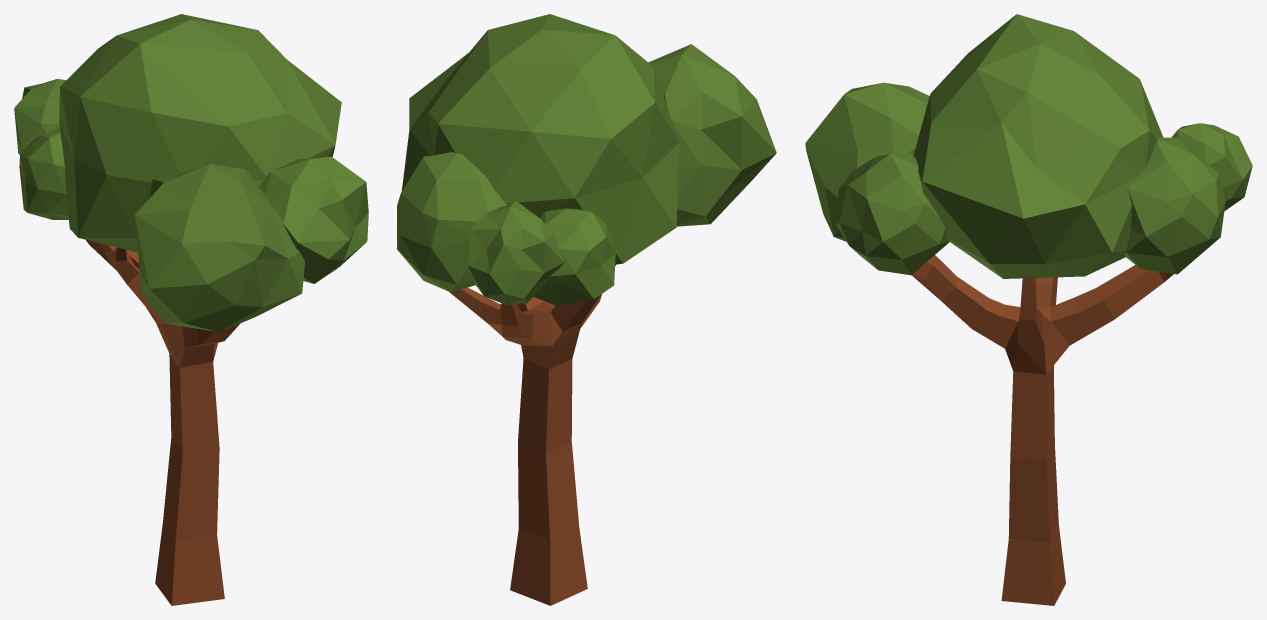
File: tree02.fbx
The picture shows the model from 3 angles, left to right: view 1: azimuth 30°, elevation 25°; view 2: azimuth 150°, elevation 25°; view 3: azimuth 270°, elevation 25°; orthographic projection. The views are drawn at different scales.
Parts seen in each view (by area): view 1: Object_10, Object_8; view 2: Object_10, Object_8; view 3: Object_10, Object_8.
Part boxes in pixels (left/top/right/bottom): Object_10: left=14, top=14, right=368, bottom=332; Object_8: left=86, top=240, right=240, bottom=605; Object_10: left=397, top=14, right=776, bottom=305; Object_8: left=449, top=264, right=615, bottom=605; Object_10: left=805, top=14, right=1252, bottom=278; Object_8: left=911, top=255, right=1173, bottom=605.
Bounding box in the file's own units: 377 × 725 × 534.
